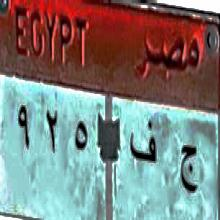2: (43, 97, 62, 157)
5: (70, 116, 92, 164)
9: (16, 98, 33, 157)
faa: (127, 114, 161, 172)
jeem: (175, 133, 204, 210)
